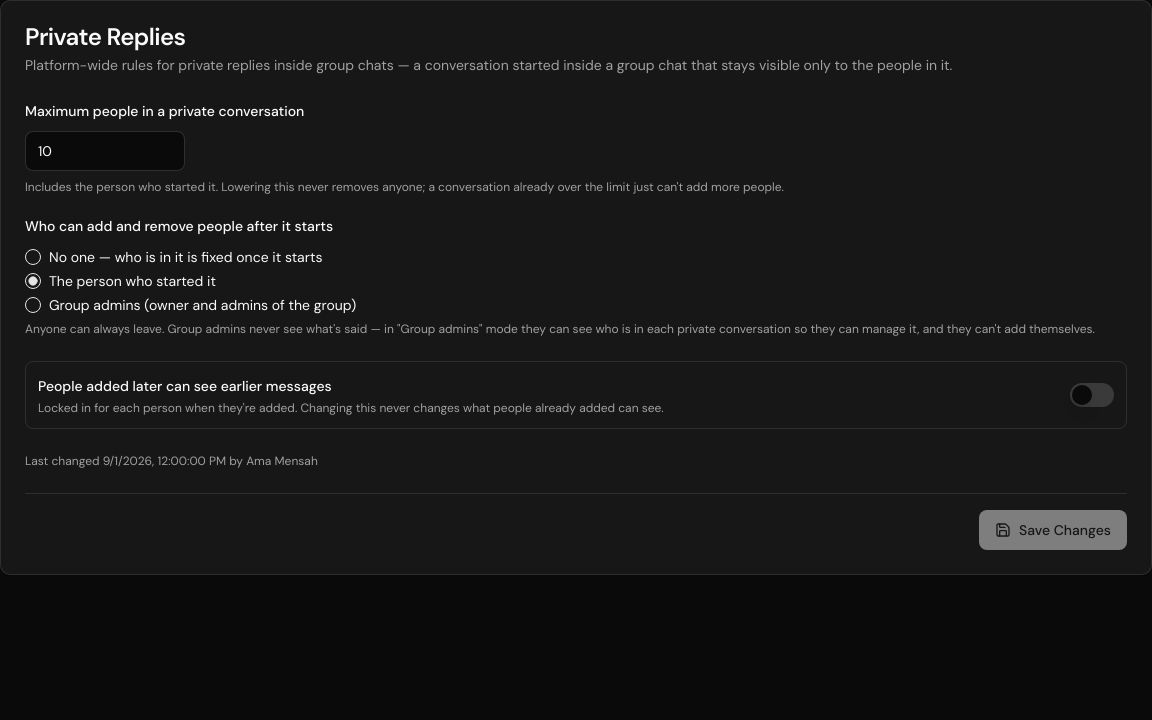
Scenario: PrivateReplySettingsCard › surfaces a server refusal instead of a false success (errorPolicy 'all' trap)
Replace the text in the number field labelled "Maximum people in a private conversation" with "20". click: [105, 151]
box: [25, 131, 185, 171]
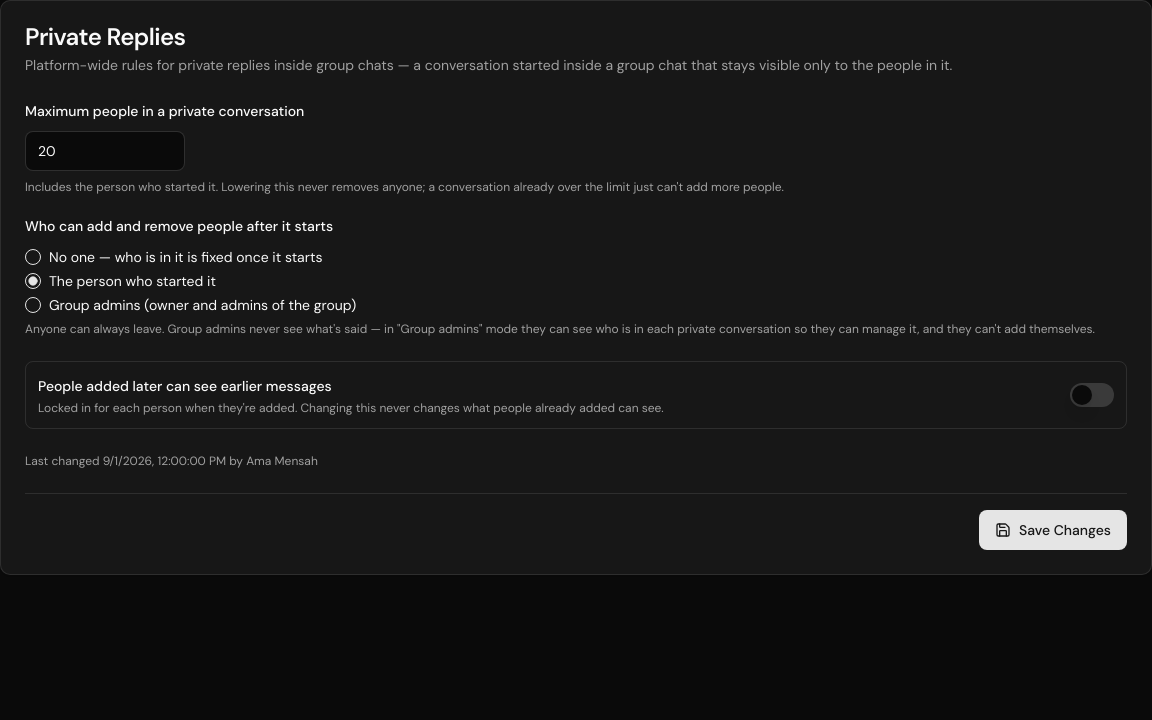
Click the button "Save Changes". click: [1053, 530]
box: [979, 510, 1127, 550]
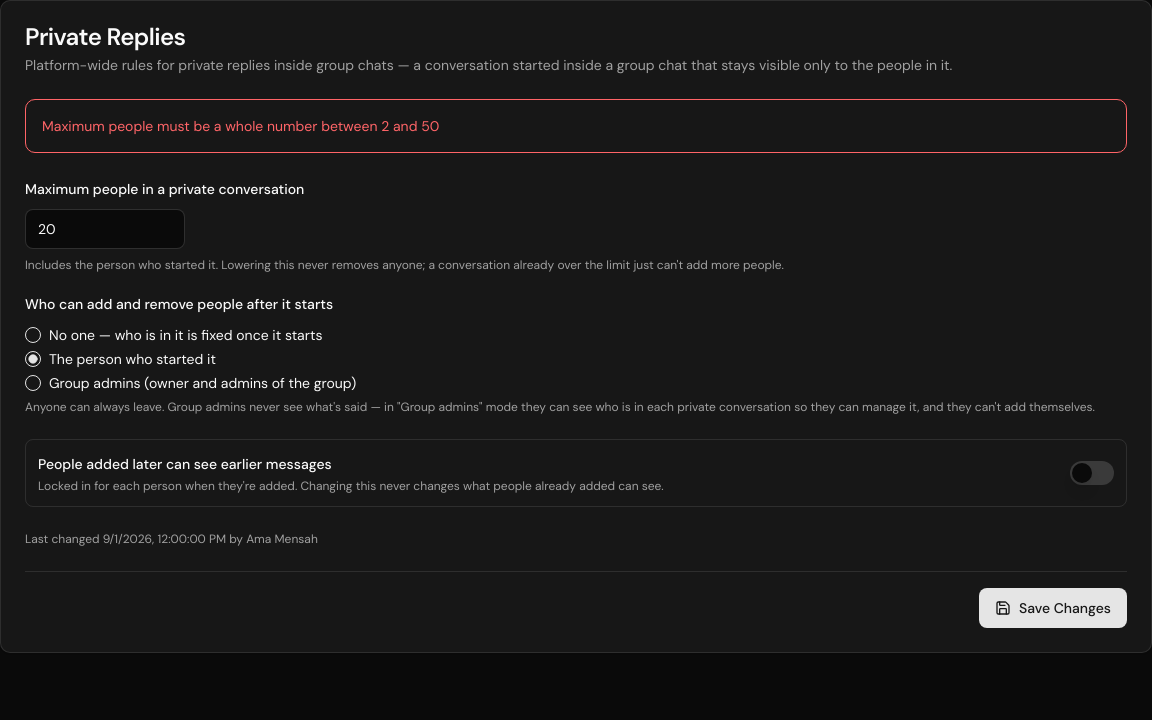
Expected: the text "Maximum people must be a whole number between 2 and 50" is shown, [42, 117, 439, 135]
